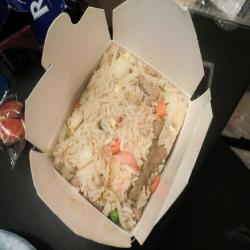rice: (45, 39, 186, 234)
